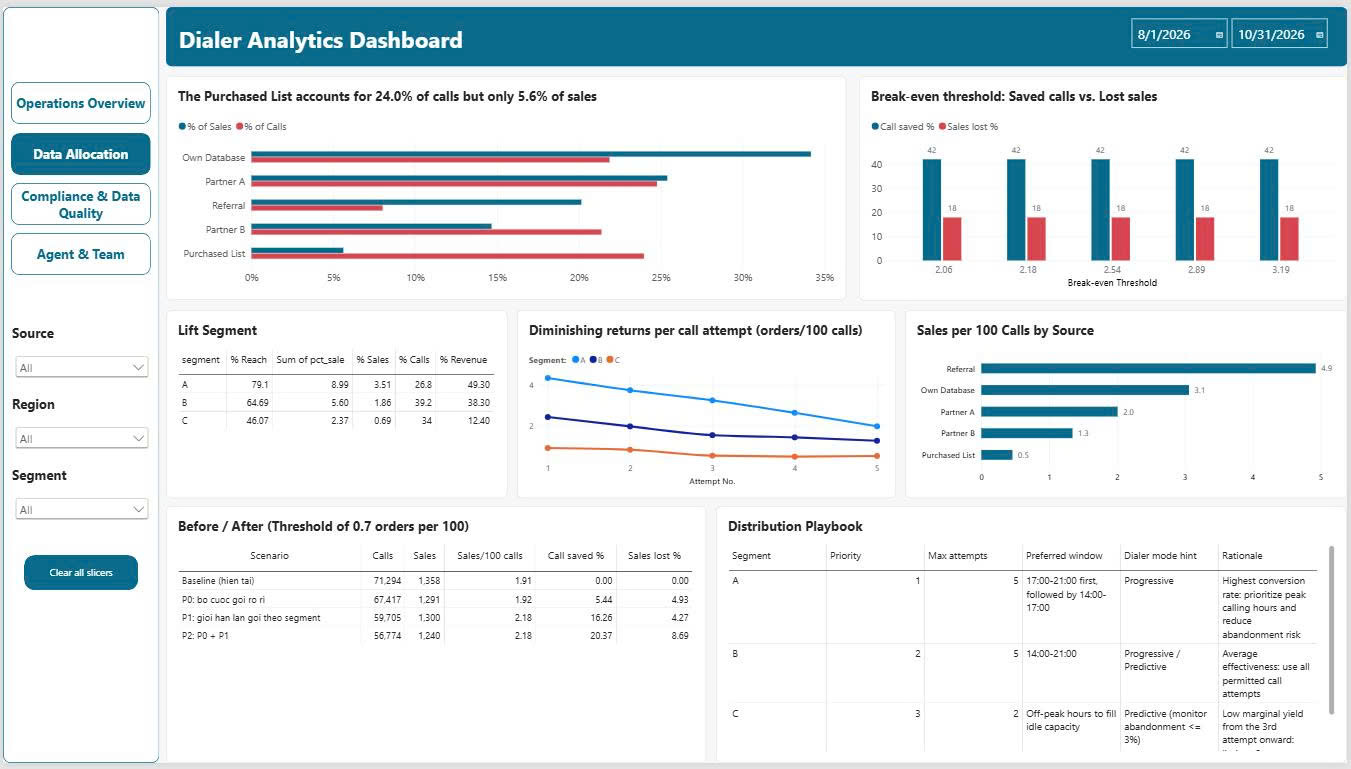

What the dashboard file says about the page in this screenshot:
{"tool":"powerbi","page":{"name":"Data Allocation","canvas":[1920,1080],"ordinal":1},"visuals":[{"type":"shape","box":[0,0,223.4,1080],"z":0},{"type":"shape","box":[12,107.7,199.5,59.9],"z":1000},{"type":"shape","box":[12,179.6,199.5,59.9],"z":2000},{"type":"shape","box":[12,251.4,199.5,59.9],"z":3000},{"type":"shape","box":[12,323.2,199.5,59.9],"z":4000},{"type":"shape","box":[232.8,0,1687.8,85.1],"z":5000},{"type":"textbox","title":"Dialer Analytics Dashboard","box":[251.4,22.6,437.6,42.6],"z":6000},{"type":"clusteredBarChart","title":"The Purchased List accounts for 24.0% of calls but only 5.6% of sales","fields":{"Category":["dw dim_lead.source"],"Y":["_Measures.% of Sales","_Measures.% of Calls"]},"box":[232.8,98.4,971.7,320.3],"z":7000},{"type":"clusteredColumnChart","title":"Break-even threshold: Saved calls vs. Lost sales","fields":{"Category":["dw pbi_threshold_scan.sales_per_100_calls"],"Y":["Sum(dw pbi_scenarios.calls_saved_pct)","Sum(dw pbi_scenarios.sales_lost_pct)"]},"box":[1222.3,98.4,698.3,320.5],"z":8000},{"type":"tableEx","title":"Lift Segment","fields":{"Values":["dw pbi_segment_lift.segment","Sum(dw pbi_segment_lift.pct_reached)","Sum(dw pbi_segment_lift.pct_sale)","Sum(dw pbi_segment_lift.sales_per_100_calls)","Sum(dw pbi_segment_lift.pct_of_calls)","Sum(dw pbi_segment_lift.pct_of_sales)"]},"box":[232.8,432.3,488.1,268.7],"z":9000},{"type":"lineChart","title":"Diminishing returns per call attempt (orders/100 calls)","fields":{"Category":["dw fact_calls.attempt_no"],"Series":["dw dim_lead.segment"],"Y":["_Measures.Sales per 100 Calls"]},"box":[734.2,432.3,541.3,268.7],"z":10000},{"type":"clusteredBarChart","title":"Sales per 100 Calls by Source","fields":{"Category":["dw dim_lead.source"],"Y":["_Measures.Sales per 100 Calls"]},"box":[1288.8,432.3,631.8,268.7],"z":11000},{"type":"tableEx","title":"Before / After (Threshold of 0.7 orders per 100)","fields":{"Values":["dw pbi_scenarios.scenario","dw pbi_scenarios.calls","dw pbi_scenarios.sales","dw pbi_scenarios.sales_per_100_calls","dw pbi_scenarios.calls_saved_pct","dw pbi_scenarios.sales_lost_pct"]},"box":[232.8,712.4,771.7,367.1],"z":12000},{"type":"slicer","fields":{"Values":["dw dim_date.full_date"]},"box":[1604.4,10.8,300.1,57.2],"z":13000},{"type":"tableEx","title":"Distribution Playbook","fields":{"Values":["dw alloc_playbook.segment","dw alloc_playbook.priority","dw alloc_playbook.max_attempts","dw alloc_playbook.preferred_window","dw alloc_playbook.dialer_mode_hint","dw alloc_playbook.rationale"]},"box":[1018.6,712.4,901.4,367.1],"z":14000},{"type":"slicer","title":"Source","fields":{"Values":["dw dim_lead.source"]},"box":[12.5,453.1,200,87.5],"z":14001},{"type":"slicer","title":"Region","fields":{"Values":["dw dim_lead.region"]},"box":[12.3,554.2,200.2,88.5],"z":14002},{"type":"slicer","title":"Segment","fields":{"Values":["dw pbi_segment_lift.segment"]},"box":[12.3,656.3,200.2,88.5],"z":14003},{"type":"actionButton","box":[30,783,163.4,50.4],"z":14004}]}

Visuals, with their boxes on the page's 1920x1080 design canvas (x1, y1, x2, y2). These are canvas units, not pixel positions in the 1351x769 screenshot, which may show the page scaled, cropped or inside an application window:
shape: [x1=0, y1=0, x2=223, y2=1080]
shape: [x1=12, y1=108, x2=212, y2=168]
shape: [x1=12, y1=180, x2=212, y2=240]
shape: [x1=12, y1=251, x2=212, y2=311]
shape: [x1=12, y1=323, x2=212, y2=383]
shape: [x1=233, y1=0, x2=1921, y2=85]
"Dialer Analytics Dashboard" textbox: [x1=251, y1=23, x2=689, y2=65]
"The Purchased List accounts for 24.0% of calls but only 5.6% of sales" clusteredBarChart: [x1=233, y1=98, x2=1204, y2=419]
"Break-even threshold: Saved calls vs. Lost sales" clusteredColumnChart: [x1=1222, y1=98, x2=1921, y2=419]
"Lift Segment" tableEx: [x1=233, y1=432, x2=721, y2=701]
"Diminishing returns per call attempt (orders/100 calls)" lineChart: [x1=734, y1=432, x2=1276, y2=701]
"Sales per 100 Calls by Source" clusteredBarChart: [x1=1289, y1=432, x2=1921, y2=701]
"Before / After (Threshold of 0.7 orders per 100)" tableEx: [x1=233, y1=712, x2=1004, y2=1080]
slicer - dw dim_date.full_date: [x1=1604, y1=11, x2=1904, y2=68]
"Distribution Playbook" tableEx: [x1=1019, y1=712, x2=1920, y2=1080]
"Source" slicer: [x1=12, y1=453, x2=212, y2=541]
"Region" slicer: [x1=12, y1=554, x2=212, y2=643]
"Segment" slicer: [x1=12, y1=656, x2=212, y2=745]
actionButton: [x1=30, y1=783, x2=193, y2=833]
